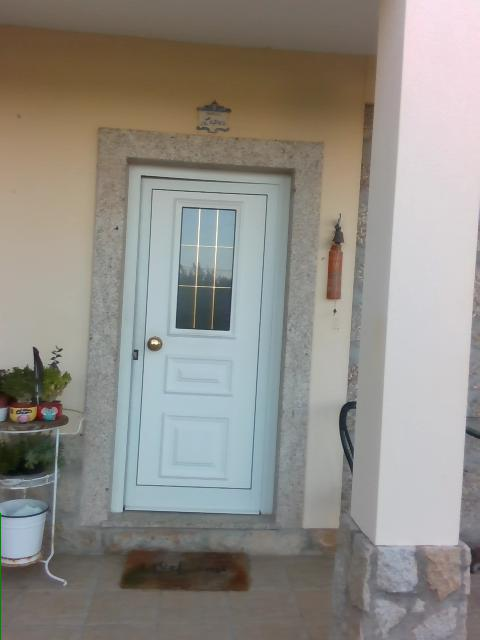door: (110, 164, 293, 520)
